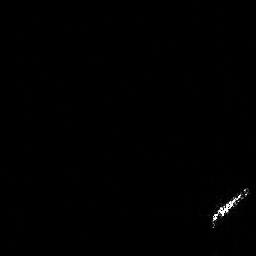ship: (209, 185, 251, 231)
